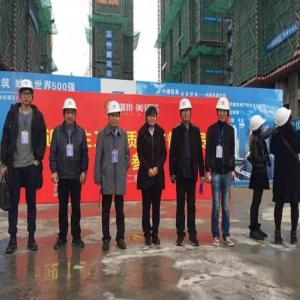white: (277, 108, 295, 133), (19, 79, 35, 107), (62, 98, 78, 125), (216, 97, 231, 125), (178, 99, 194, 124), (107, 101, 121, 128), (144, 106, 160, 127), (250, 115, 265, 137)
